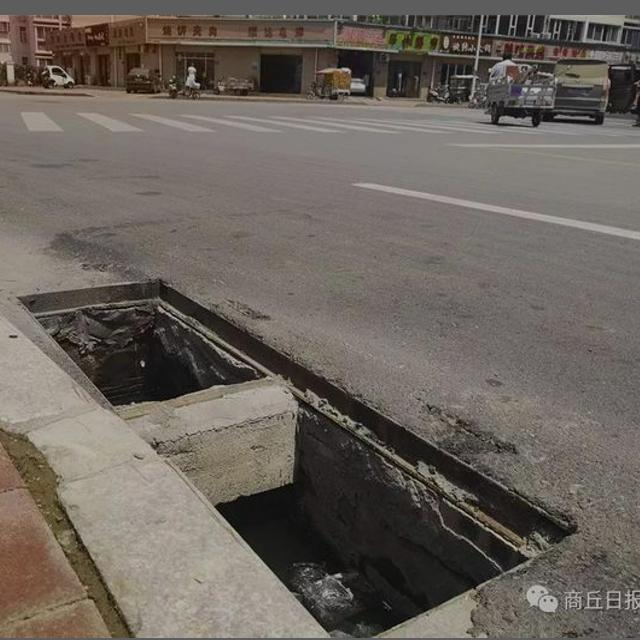lose: (0, 269, 581, 631)
